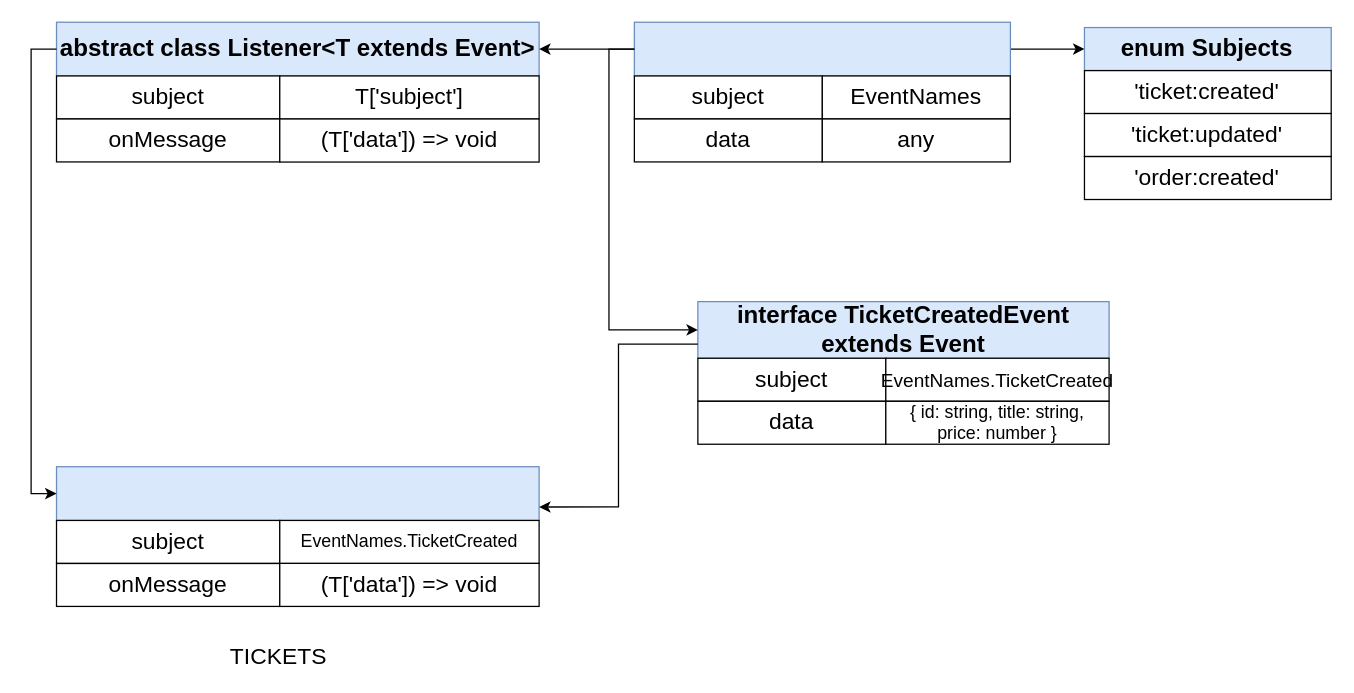
This 1354x693 diagram has some shape labels left out. Each missing label, with the box of its shape:
class TicketCreatedListener extends Listener<TicketCreatedEvent>: (55, 465, 539, 520)
interface Event: (633, 21, 1010, 76)
